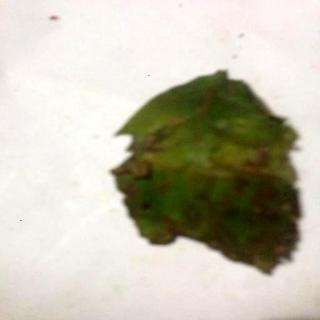Red Leaf Spot: (111, 72, 301, 276)
